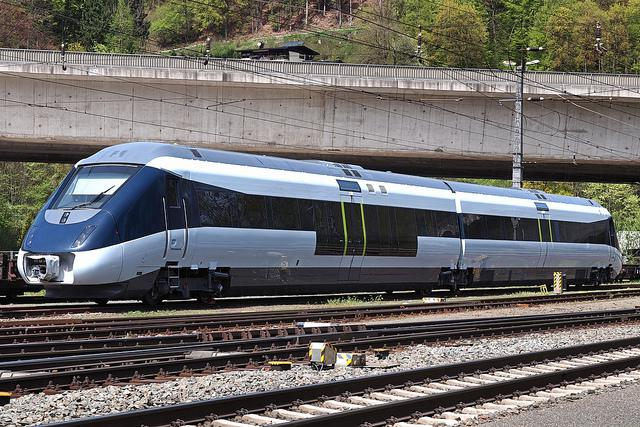Train: (17, 142, 628, 304)
